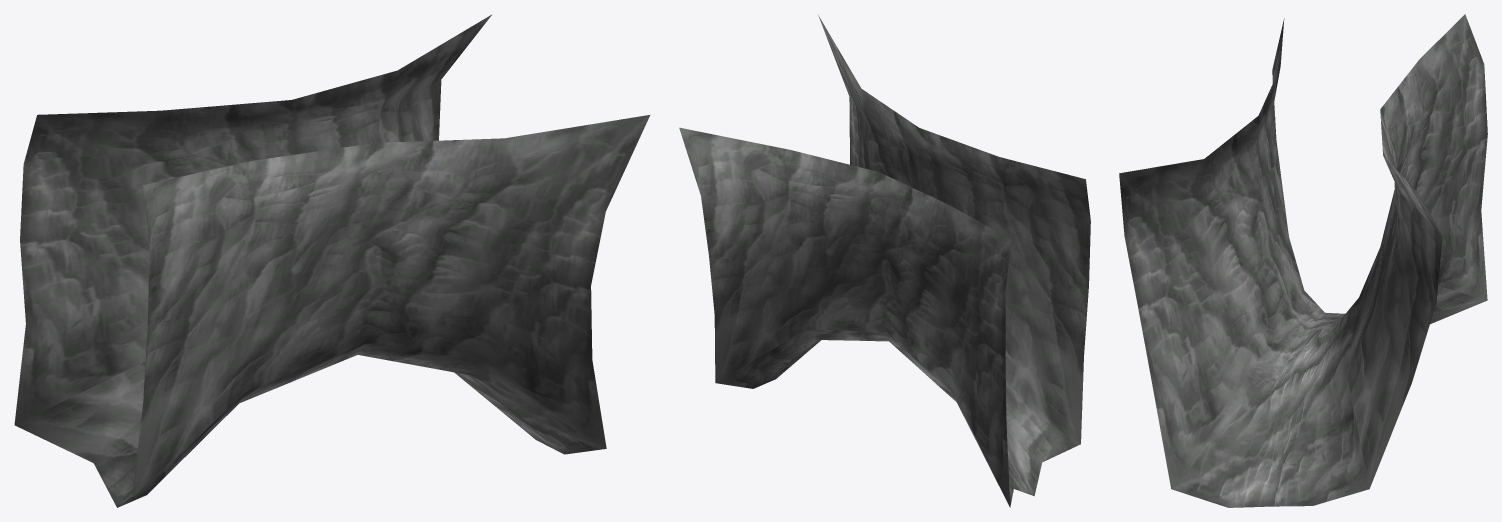
Rendered from SWORDLIGHT20_PS-AREA03_28.fbx.
The picture shows the model from 3 angles, left to right: view 1: azimuth 30°, elevation 25°; view 2: azimuth 150°, elevation 25°; view 3: azimuth 270°, elevation 25°; orthographic projection. The views are drawn at different scales.
Visible parts, largest first — view 1: SWORDLIGHT20_PS-AREA03_28; view 2: SWORDLIGHT20_PS-AREA03_28; view 3: SWORDLIGHT20_PS-AREA03_28.
Boxes of the visible parts, bbox=[...] form: SWORDLIGHT20_PS-AREA03_28: bbox=[14, 14, 650, 507]; SWORDLIGHT20_PS-AREA03_28: bbox=[679, 15, 1090, 507]; SWORDLIGHT20_PS-AREA03_28: bbox=[1119, 14, 1487, 507].
Bounding box in the file's own units: 69364 × 59152 × 54562.
Materials: 1 (1 with a texture image).
